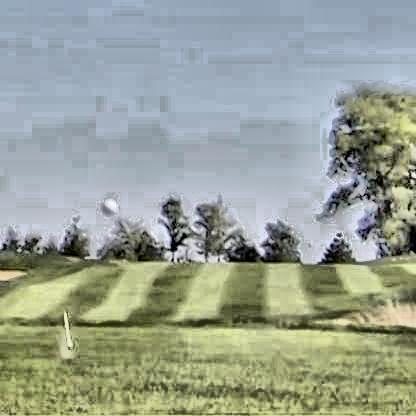golfball: (98, 195, 115, 213)
